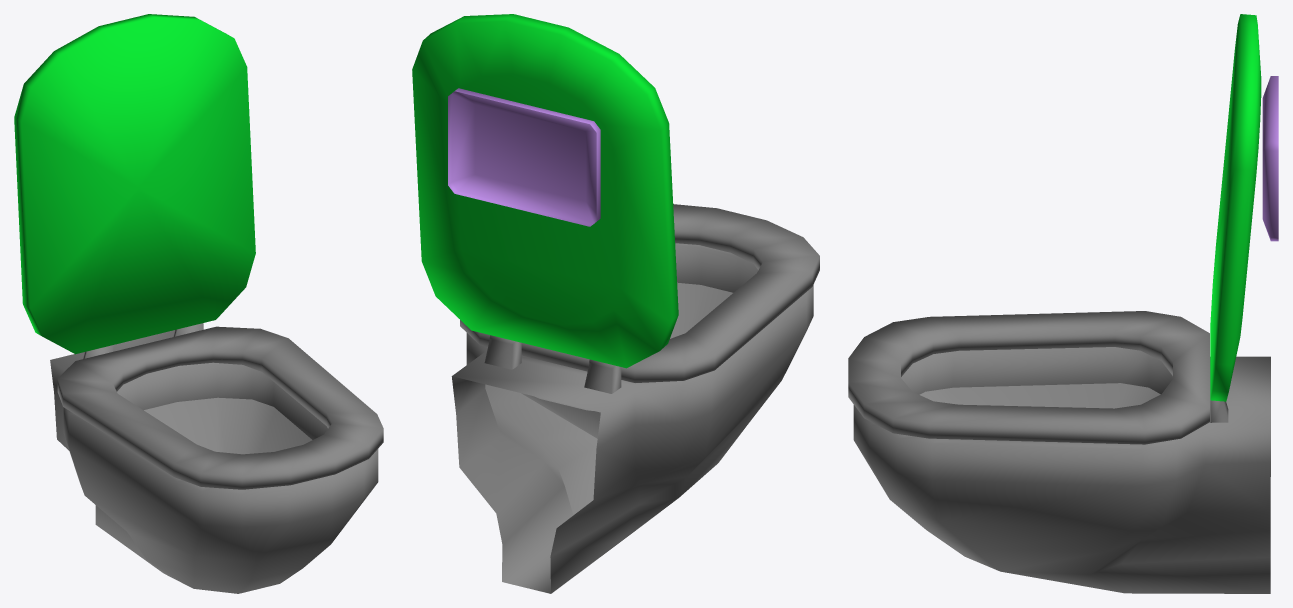
File: toilet.fbx
The picture shows the model from 3 angles, left to right: view 1: azimuth 30°, elevation 25°; view 2: azimuth 150°, elevation 25°; view 3: azimuth 270°, elevation 25°; orthographic projection. The views are drawn at different scales.
Visible parts, largest first — view 1: abatan, toilet_main; view 2: toilet_main, abatan, button_chase_d'eau; view 3: toilet_main, abatan, button_chase_d'eau.
Boxes of the visible parts, box(x1,y1,x2,y2) form: abatan: box(14, 14, 255, 354); toilet_main: box(50, 323, 383, 593); toilet_main: box(451, 204, 819, 593); abatan: box(412, 14, 678, 368); button_chase_d'eau: box(448, 88, 600, 226); toilet_main: box(848, 311, 1270, 593); abatan: box(1210, 14, 1261, 401); button_chase_d'eau: box(1262, 76, 1278, 241).
Bounding box in the file's own units: 350 × 747 × 534.
